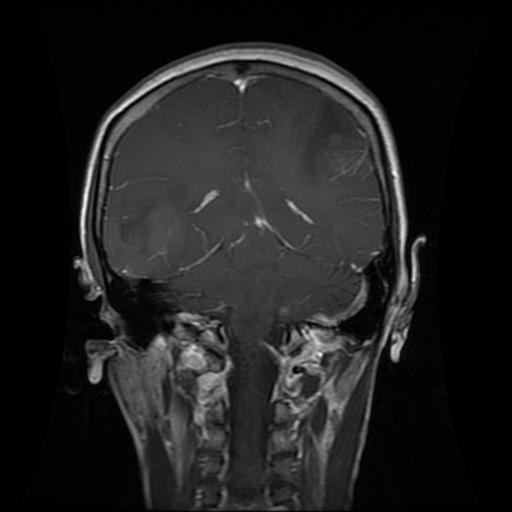Gliomia_tumour: (303, 101, 369, 184)
